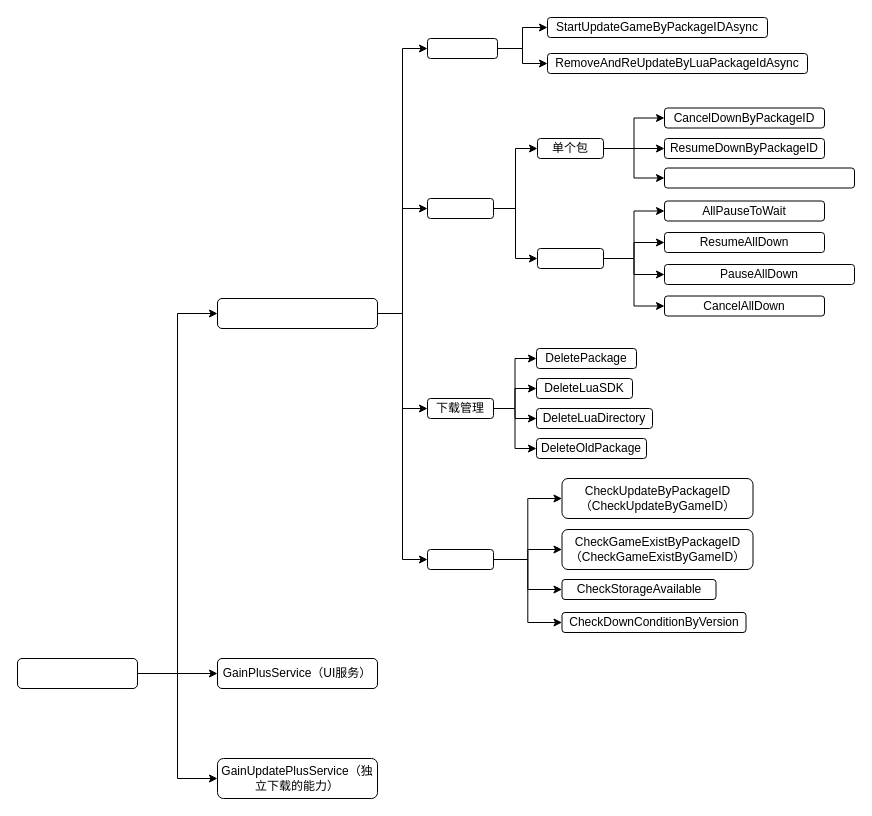
The diagram is 872 pixels wide and 816 high, and some of its shapes have lost their labels. Here are the shapes that lost their labels. From the top down, the centre of each, then its label:
At (x=462, y=48): "下载接口".
At (x=759, y=177): "ForceResumeDownByPackageID".
At (x=460, y=208): "流程操作".
At (x=570, y=258): "所有包".
At (x=297, y=313): "GainService（服务）".
At (x=460, y=559): "检查接口".
At (x=77, y=673): "Gain服务模块".
